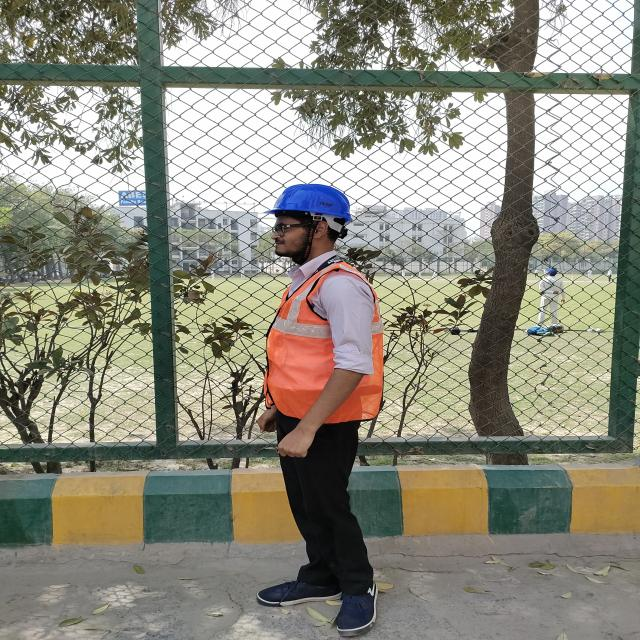safe: (266, 184, 384, 634)
